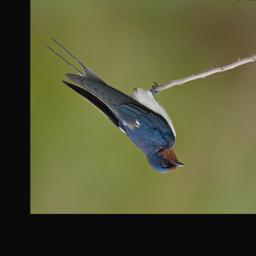Swallow: (43, 36, 186, 173)
